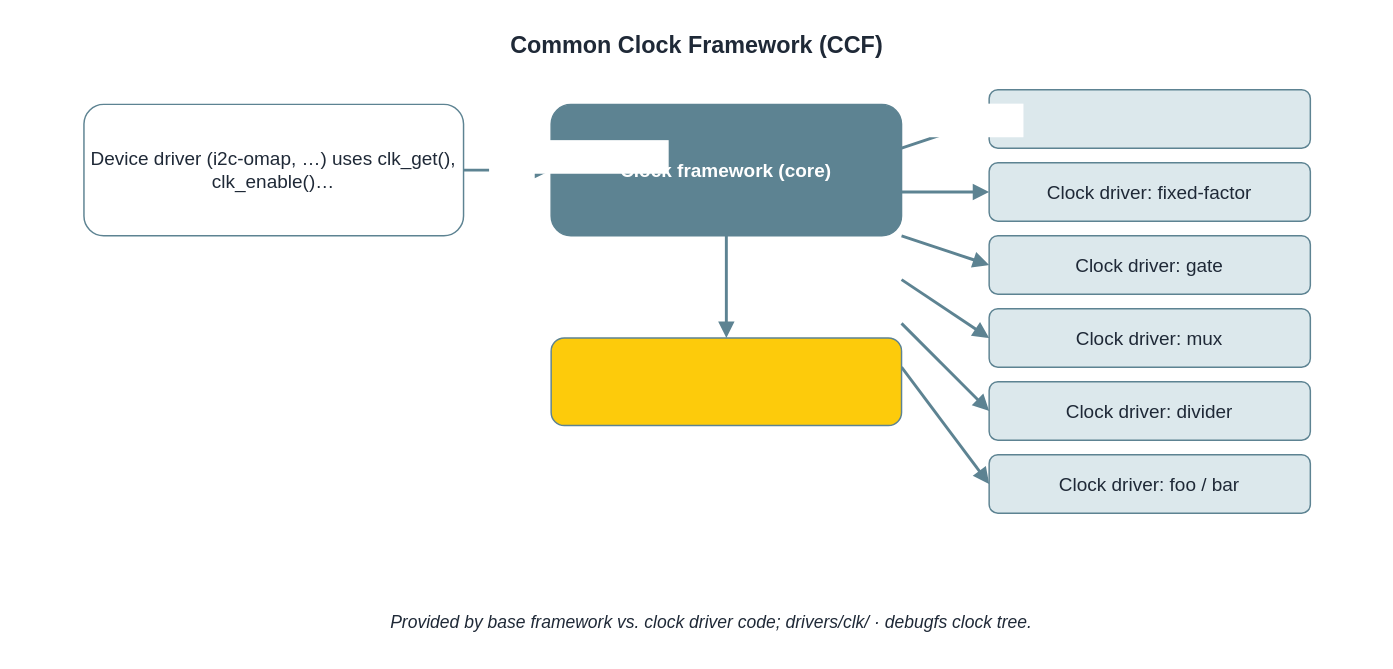
The diagram is 1393 pixels wide and 669 high, and some of its shapes have lost their labels. The shapes that lost their labels are listed below. From the top down, each one's box as (x1, y1, x2, y2) in pixels, then its label:
(929, 103, 1023, 137): clk_ops
(988, 88, 1310, 148): Clock driver: fixed-rate
(488, 139, 668, 173): public clock API
(550, 337, 902, 426): Device Tree — describes clocks and their relationships
